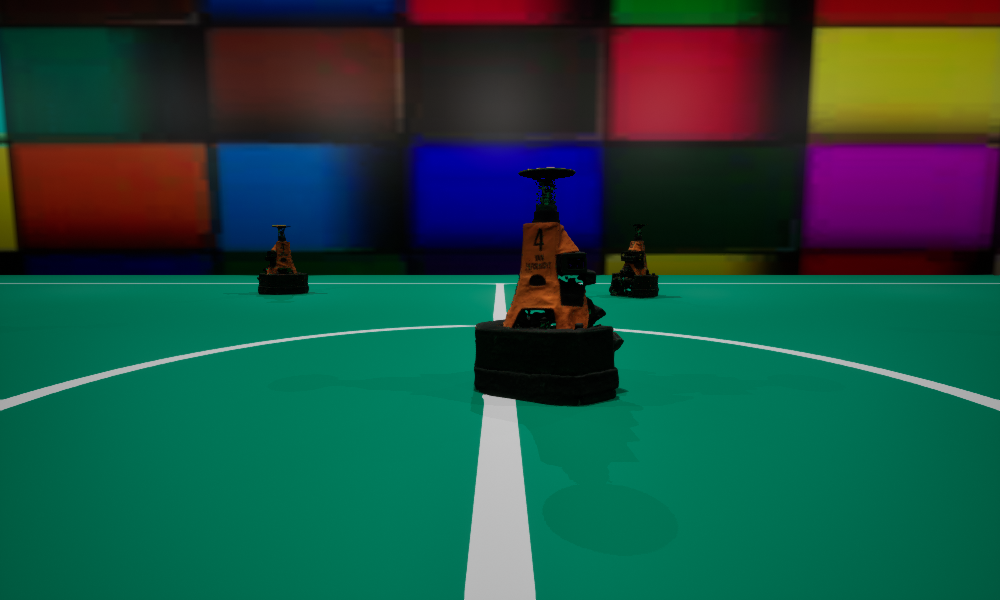o: (474, 167, 623, 405), (609, 224, 658, 297), (257, 225, 308, 294)
